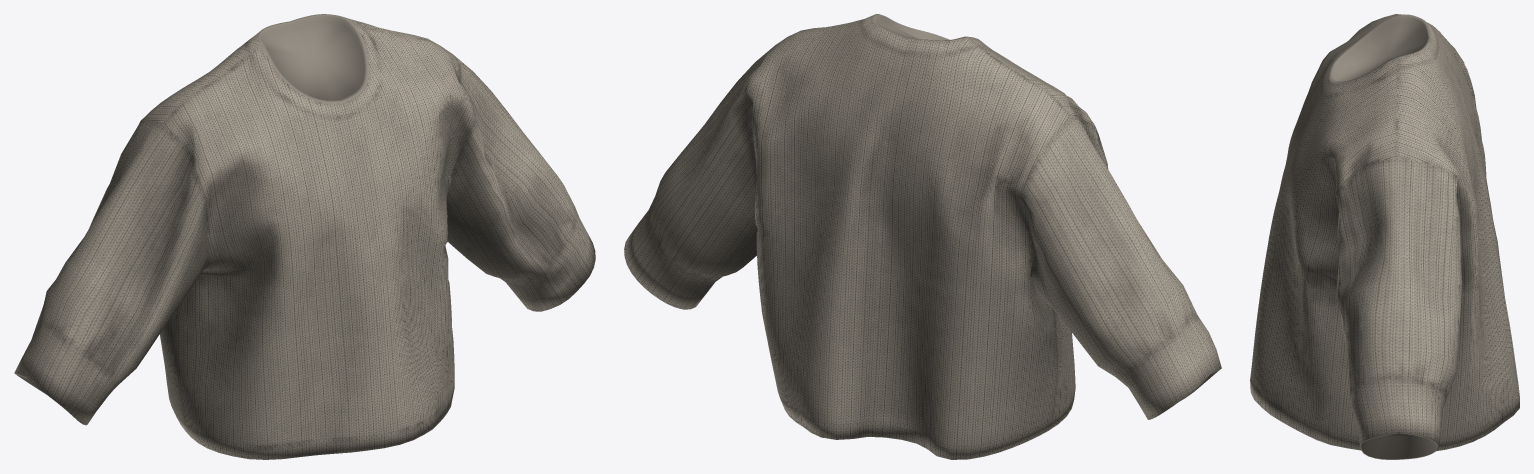
The picture shows the model from 3 angles, left to right: view 1: azimuth 30°, elevation 25°; view 2: azimuth 150°, elevation 25°; view 3: azimuth 270°, elevation 25°; orthographic projection. The views are drawn at different scales.
Parts seen in each view (by area): view 1: hash_D067EE79.model; view 2: hash_D067EE79.model; view 3: hash_D067EE79.model.
Boxes of the visible parts, bbox=[...] form: hash_D067EE79.model: bbox=[14, 14, 595, 459]; hash_D067EE79.model: bbox=[624, 14, 1221, 459]; hash_D067EE79.model: bbox=[1250, 14, 1519, 459].
Size of the model in its own units: 0.9268 by 0.5878 by 0.396.
